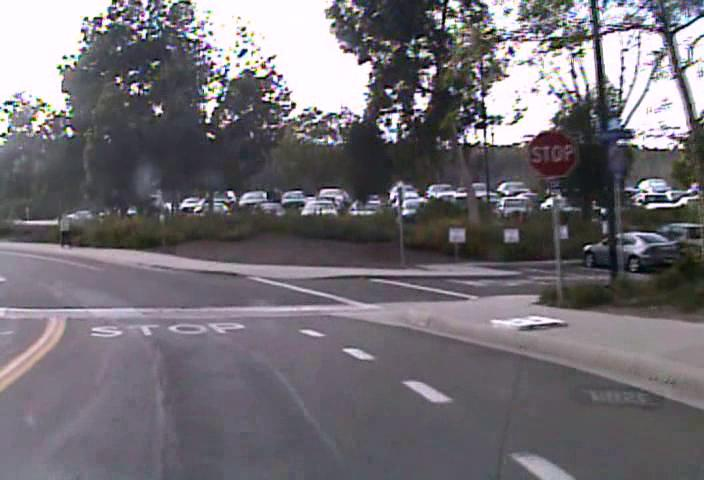stop: (526, 129, 577, 179)
